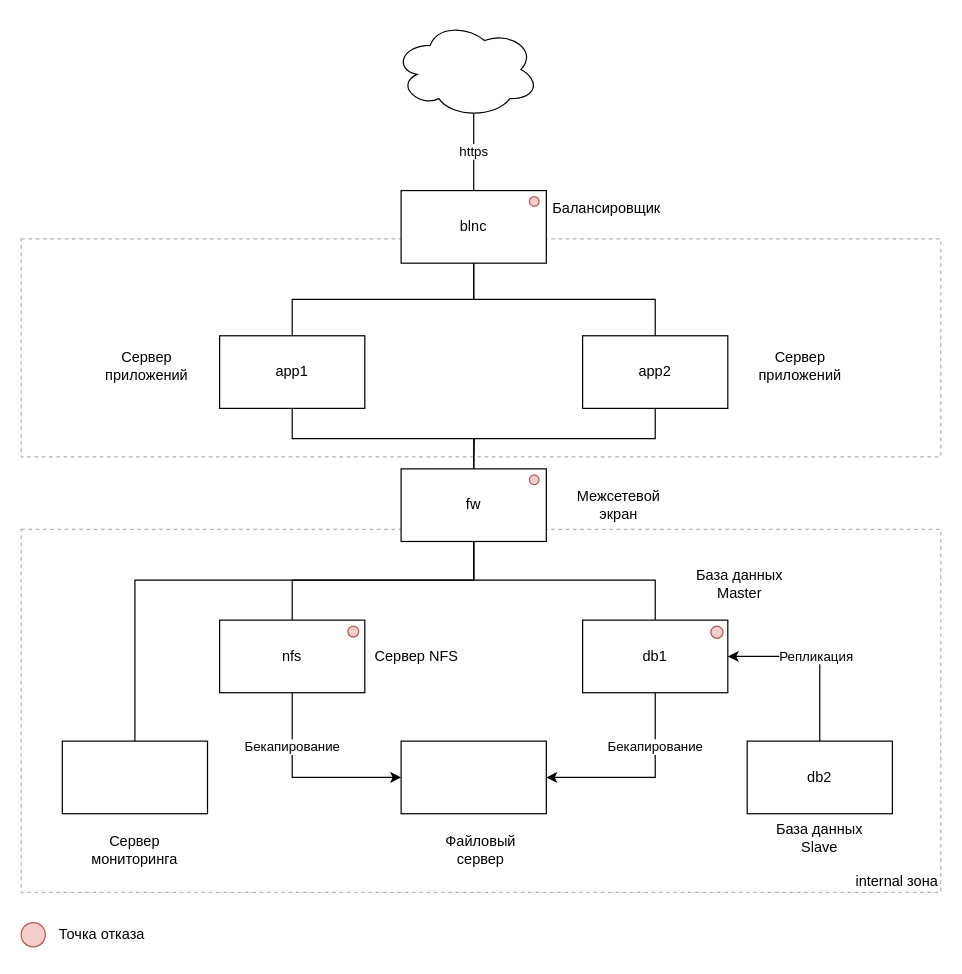
Image size: 962x974. Some labels were removed from this diagram. Each missing label, with the box of its shape:
dmz зона: (20, 238, 941, 457)
fs: (400, 740, 546, 814)
internet: (393, 20, 539, 118)
obs: (61, 740, 208, 814)
